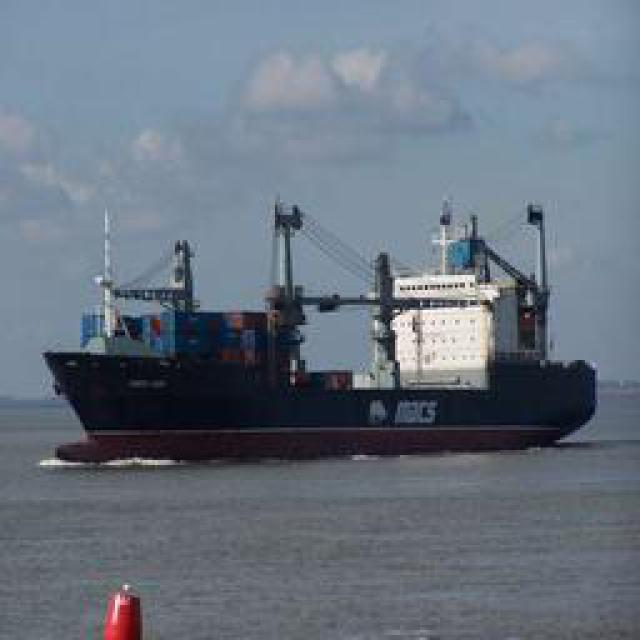Ship: (40, 170, 595, 453)
